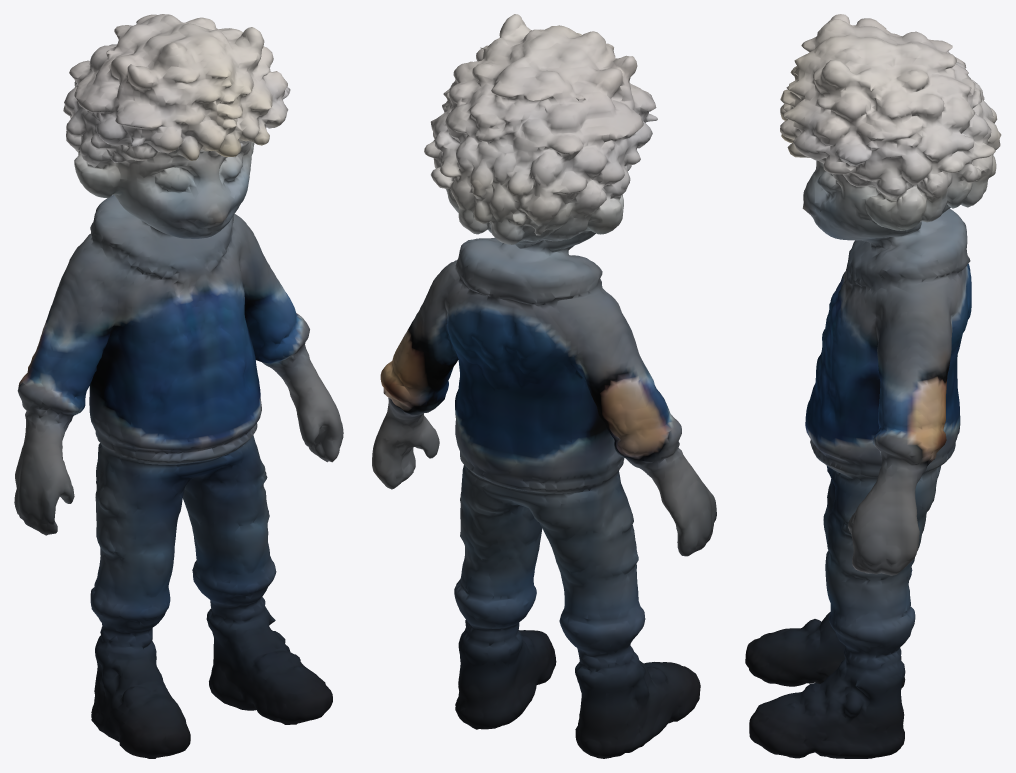
File: firipu_reconstruction_v03b.glb
3 views of the same model, side by side, from view 1: azimuth 30°, elevation 25°; view 2: azimuth 150°, elevation 25°; view 3: azimuth 270°, elevation 25° (orthographic).
Parts seen in each view (by area): view 1: Firipu_Reconstruccion_Base; view 2: Firipu_Reconstruccion_Base; view 3: Firipu_Reconstruccion_Base.
Boxes of the visible parts, <box> form: Firipu_Reconstruccion_Base: <box>14,14,343,758</box>; Firipu_Reconstruccion_Base: <box>372,14,716,758</box>; Firipu_Reconstruccion_Base: <box>745,14,1001,758</box>.
Bounding box in the file's own units: 0.5244 × 1.08 × 0.3631.
